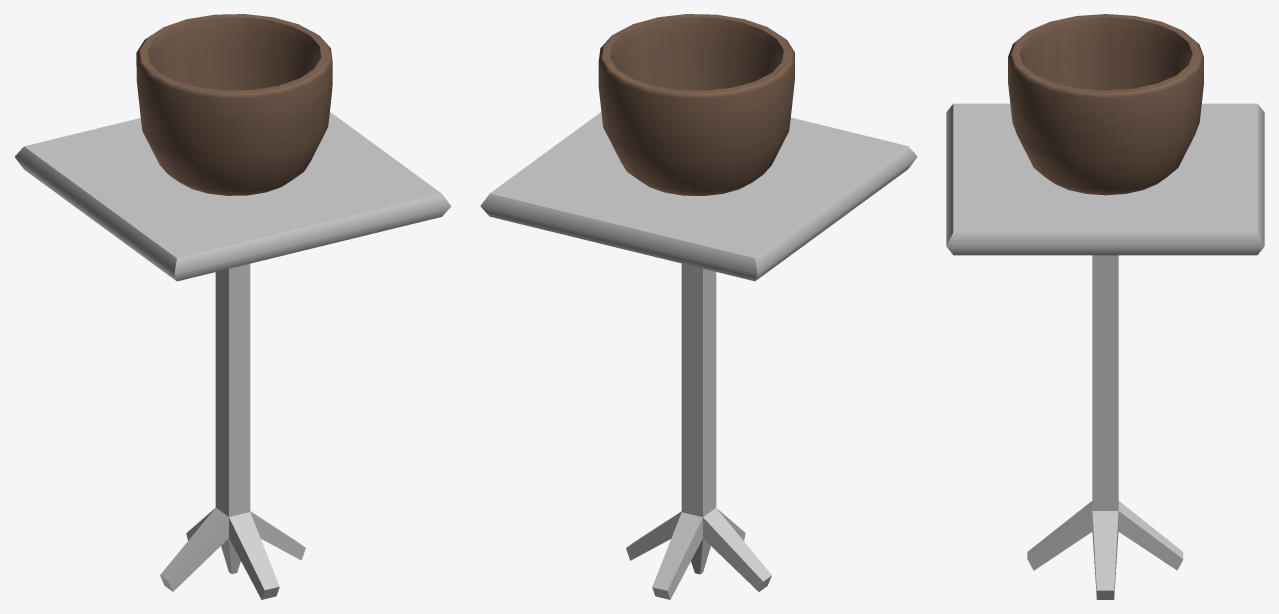
File: tableAndBowl.fbx
3 views of the same model, side by side, from view 1: azimuth 30°, elevation 25°; view 2: azimuth 150°, elevation 25°; view 3: azimuth 270°, elevation 25° (orthographic).
Visible parts, largest first — view 1: Bowl6; view 2: Bowl6; view 3: Bowl6.
Part boxes in pixels (x1,y1,x2,y2): Bowl6: (15,14,451,599); Bowl6: (480,14,917,599); Bowl6: (946,14,1264,599).
Size of the model in its own units: 1.18 by 2.11 by 1.18.
